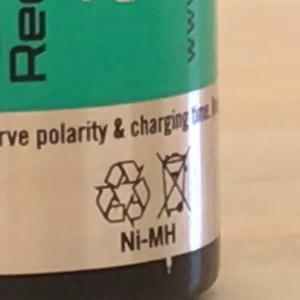NI-MH: (111, 213, 185, 262)
